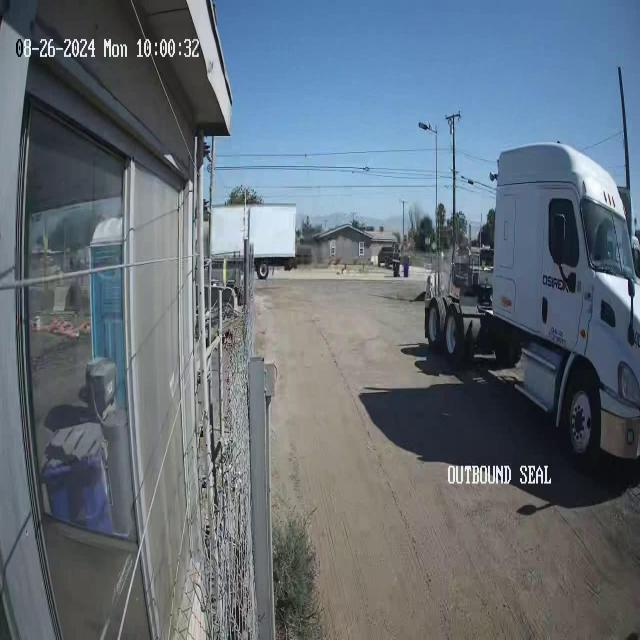TRUCK_IN: (424, 139, 639, 469)
